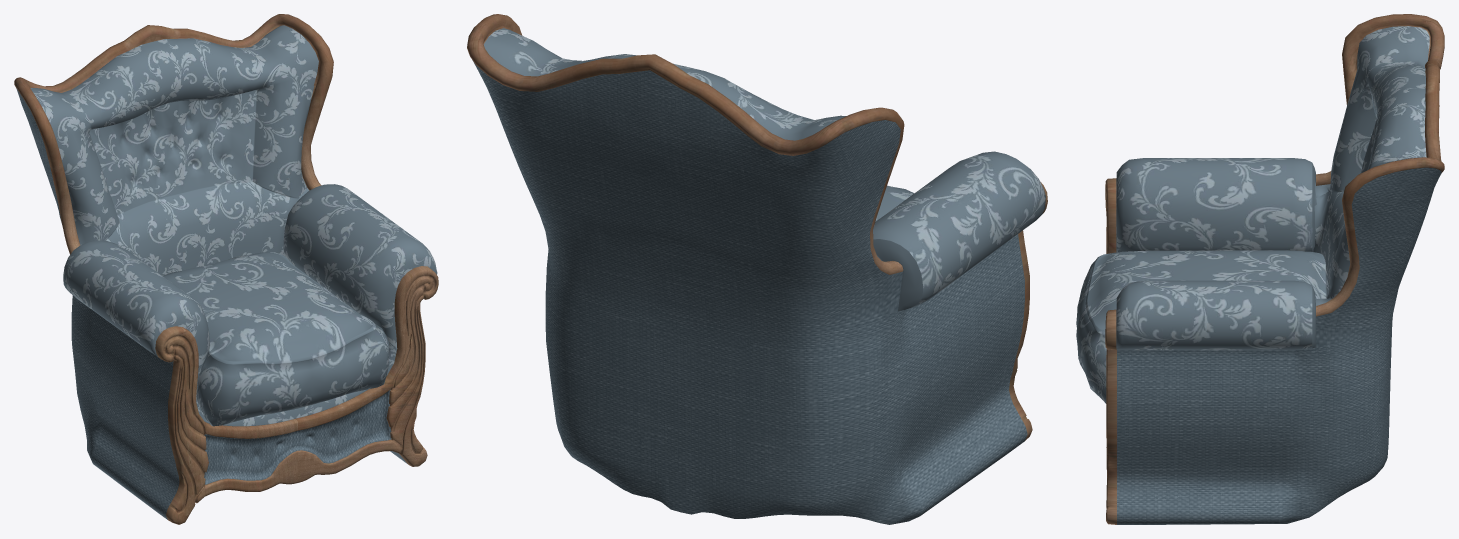
File: chair.gltf
3 views of the same model, side by side, from view 1: azimuth 30°, elevation 25°; view 2: azimuth 150°, elevation 25°; view 3: azimuth 270°, elevation 25° (orthographic). The views are drawn at different scales.
Visible parts, largest first — view 1: Armchair_01___Default_0; view 2: Armchair_01___Default_0; view 3: Armchair_01___Default_0.
Boxes of the visible parts, bbox=[...] form: Armchair_01___Default_0: bbox=[14, 14, 438, 524]; Armchair_01___Default_0: bbox=[467, 14, 1047, 524]; Armchair_01___Default_0: bbox=[1076, 14, 1444, 524].
Size of the model in its own units: 2.54 by 3 by 2.54.
1 material, 1 textured.
